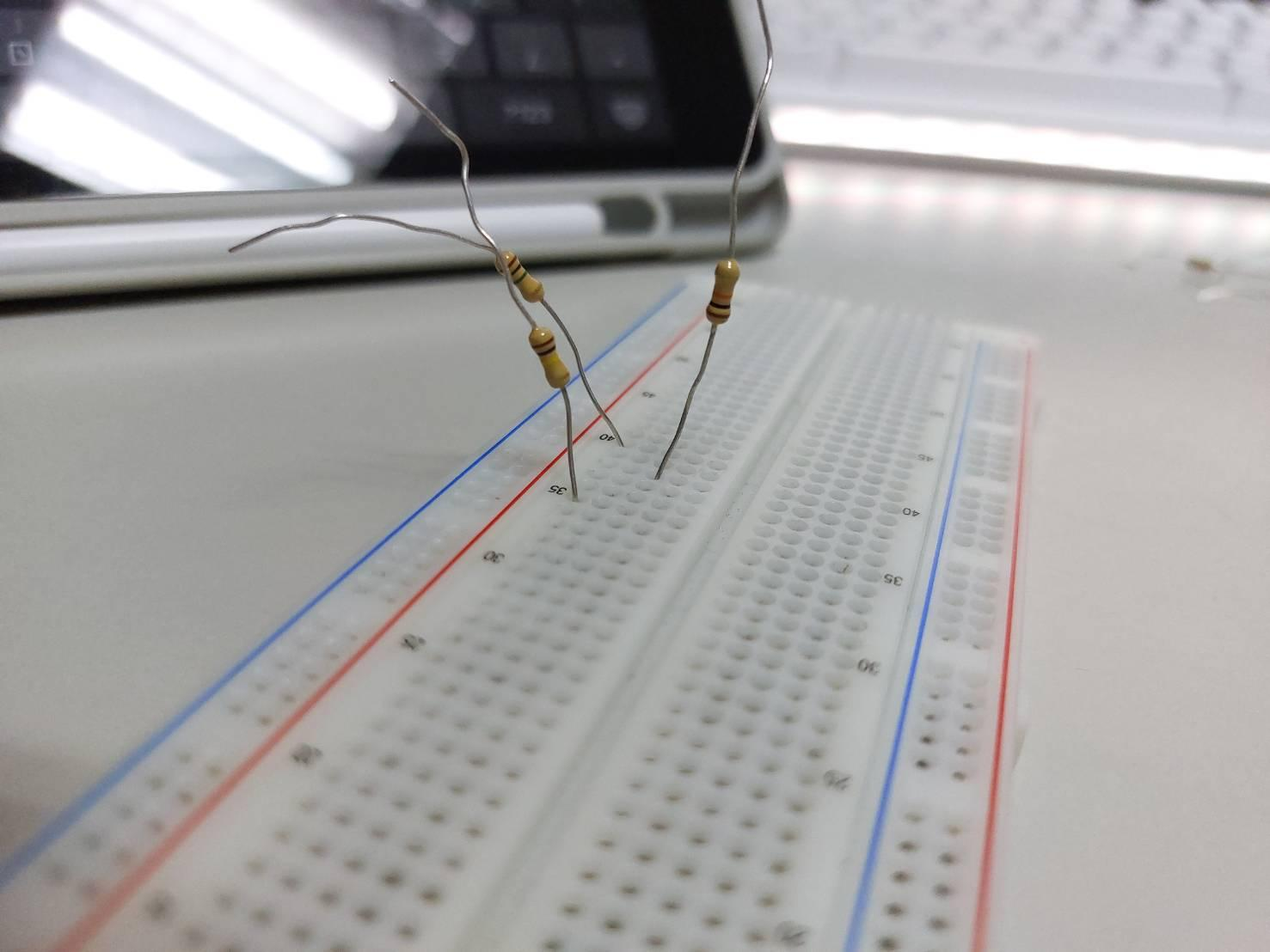resistor: (495, 249, 544, 304), (532, 325, 572, 392), (708, 259, 739, 326)
